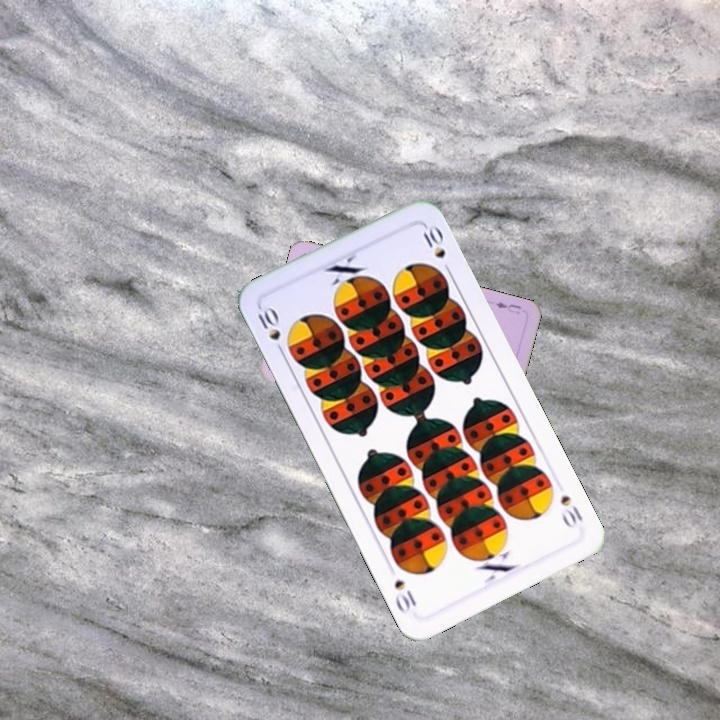EU: (491, 298, 523, 317)
S10: (252, 302, 287, 358), (556, 490, 585, 531)
